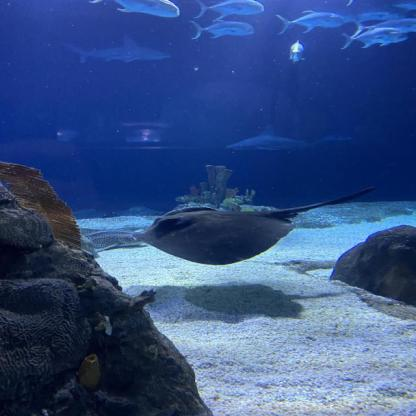fish: (276, 10, 345, 34), (90, 0, 180, 18), (190, 19, 254, 40), (196, 0, 264, 17), (352, 20, 416, 38), (342, 7, 407, 24), (341, 32, 407, 48), (382, 0, 415, 12), (289, 40, 305, 62)
shark: (66, 34, 172, 63), (228, 126, 320, 152), (71, 226, 147, 252)
stingray: (130, 207, 296, 265)
